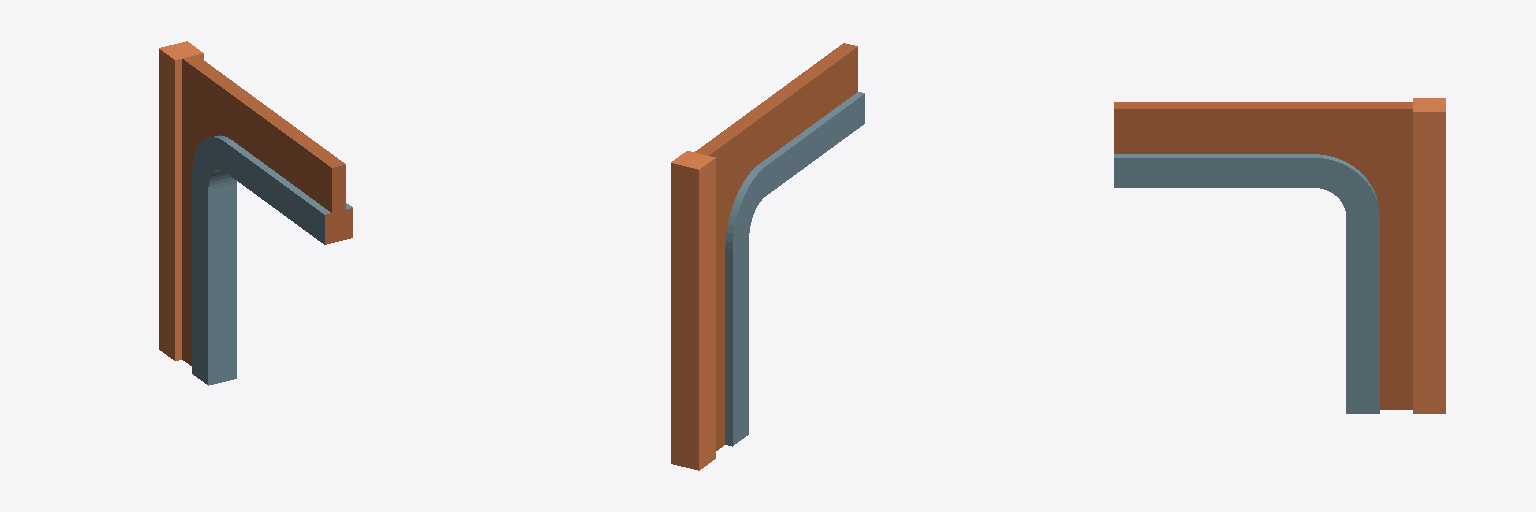
The model's file is wallWoodDoorwaySquareWideCurved.obj.
The picture shows the model from 3 angles: view 1: azimuth 30°, elevation 25°; view 2: azimuth 150°, elevation 25°; view 3: azimuth 270°, elevation 25°; orthographic projection.
Parts seen in each view (by area): view 1: wallWoodDoorwaySquareWideCurved; view 2: wallWoodDoorwaySquareWideCurved; view 3: wallWoodDoorwaySquareWideCurved.
Boxes of the visible parts, <box> form: wallWoodDoorwaySquareWideCurved: <box>159,41,352,385</box>; wallWoodDoorwaySquareWideCurved: <box>671,43,864,470</box>; wallWoodDoorwaySquareWideCurved: <box>1114,98,1445,413</box>.
Bounding box in the file's own units: 0.1 × 1 × 1.